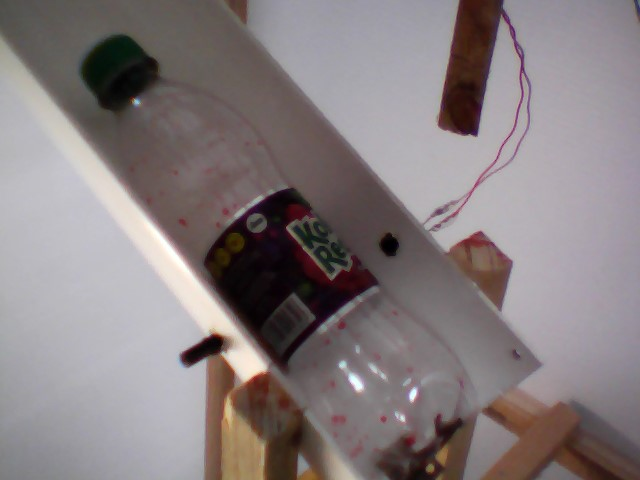plastico: (78, 24, 487, 480)
